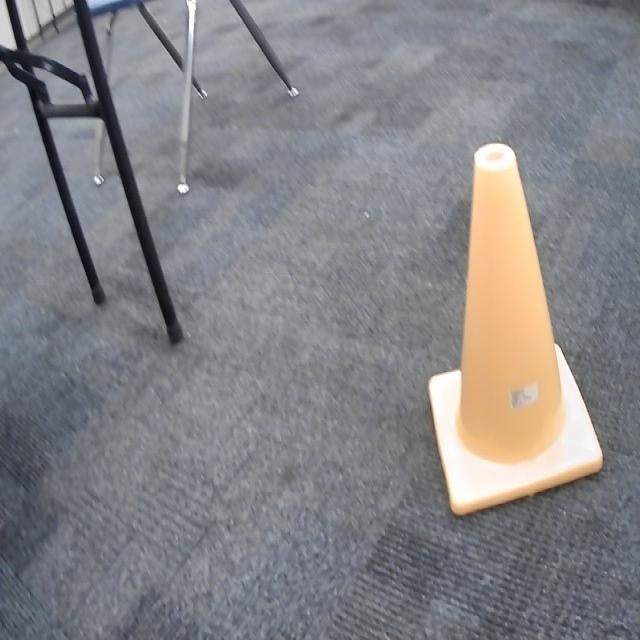cone: (428, 142, 602, 520)
